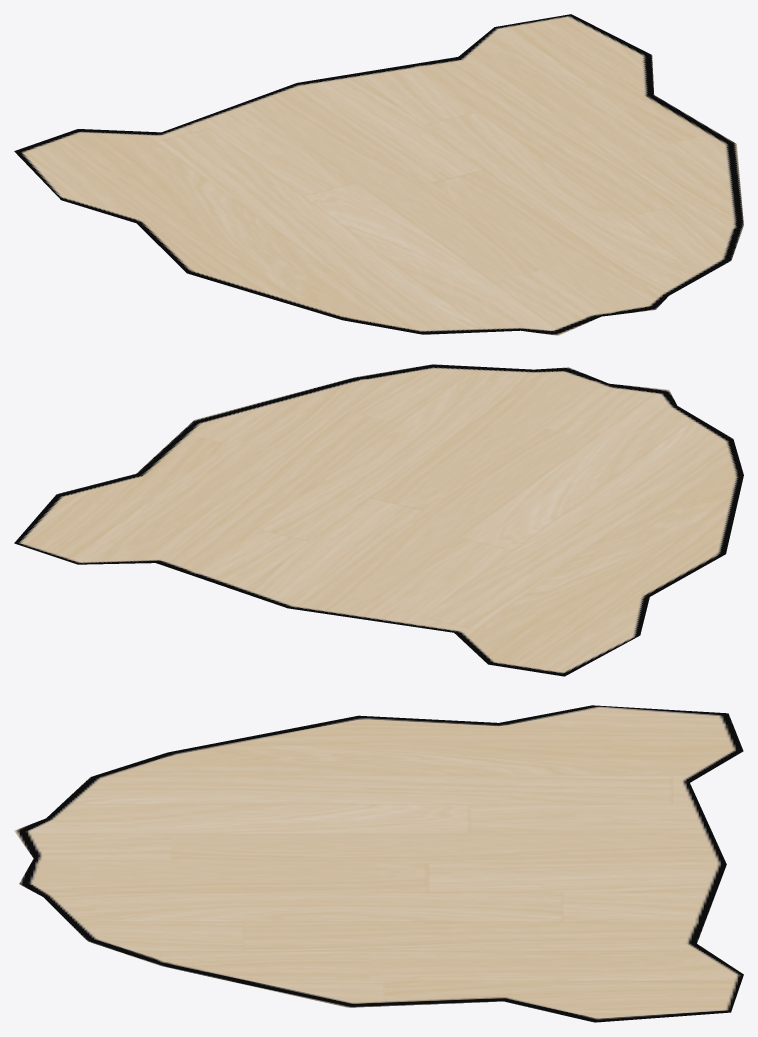
File: Bear_03.fbx
The picture shows the model from 3 angles, top to bottom: view 1: azimuth 30°, elevation 25°; view 2: azimuth 150°, elevation 25°; view 3: azimuth 270°, elevation 25°; orthographic projection. The views are drawn at different scales.
Parts seen in each view (by area): view 1: pPlane1; view 2: pPlane1; view 3: pPlane1.
Boxes of the visible parts, <box> form: pPlane1: <box>14,14,743,335</box>; pPlane1: <box>14,364,743,676</box>; pPlane1: <box>14,705,743,1022</box>.
Bounding box in the file's own units: 60.03 × 0 × 58.37.
1 material, 1 textured.
